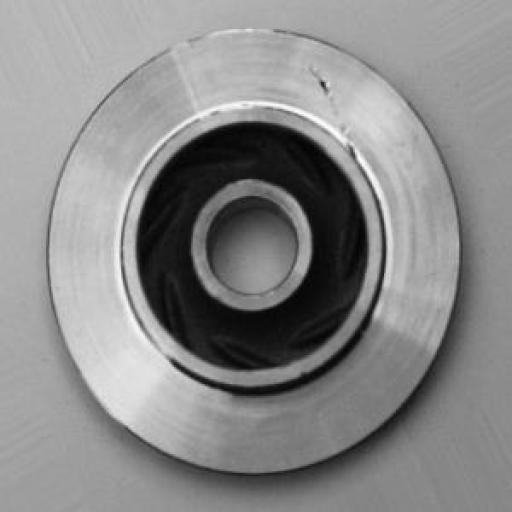defect: (293, 54, 383, 194)
